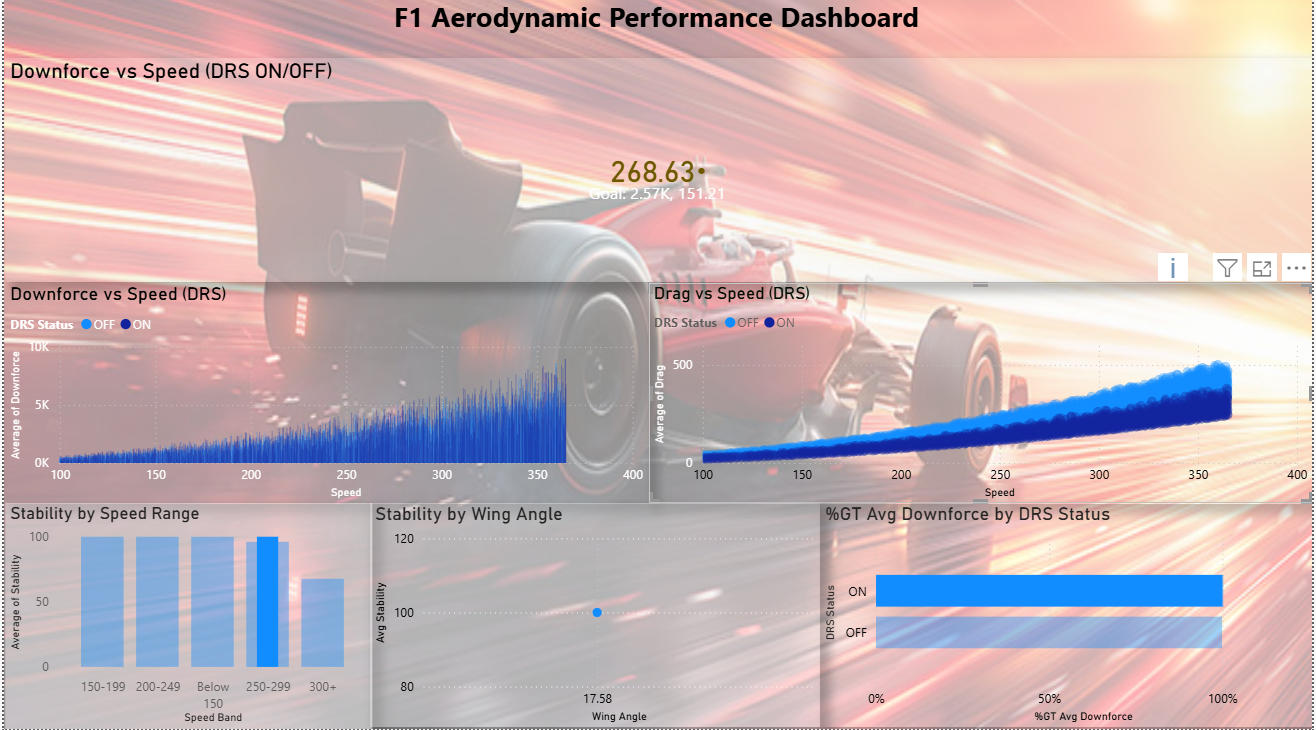

Layout of this report page (visuals, bound fields, positions):
{"tool":"powerbi","page":{"name":"Page 1","canvas":[1280,720],"ordinal":0},"visuals":[{"type":"kpi","title":"Downforce vs Speed (DRS ON/OFF)","fields":{"TrendLine":["actaruslab_f1_telemetry_2026.DRS Status"],"Indicator":["actaruslab_f1_telemetry_2026.Avg Speed"],"Goal":["actaruslab_f1_telemetry_2026.Avg Downforce","actaruslab_f1_telemetry_2026.Avg Drag"]},"box":[1.2,63.9,1278.8,219.6],"z":0},{"type":"clusteredColumnChart","title":"Downforce vs Speed (DRS)","fields":{"Category":["actaruslab_f1_telemetry_2026.Speed"],"Series":["actaruslab_f1_telemetry_2026.DRS Status"],"Y":["Avg(actaruslab_f1_telemetry_2026.Downforce)"]},"box":[1.2,283.5,629.8,216],"z":1000},{"type":"scatterChart","title":"Drag vs Speed (DRS)","fields":{"Series":["actaruslab_f1_telemetry_2026.DRS Status"],"X":["actaruslab_f1_telemetry_2026.Speed"],"Y":["Avg(actaruslab_f1_telemetry_2026.Drag)"]},"box":[631,283.5,649.1,216],"z":2000},{"type":"barChart","fields":{"Category":["actaruslab_f1_telemetry_2026.DRS Status"],"Y":["actaruslab_f1_telemetry_2026.Avg Downforce"]},"box":[798.7,499.5,481.4,219.6],"z":3000},{"type":"clusteredColumnChart","title":"Stability by Speed Range","fields":{"Y":["Avg(actaruslab_f1_telemetry_2026.Stability)"],"Category":["actaruslab_f1_telemetry_2026.Speed Band"]},"box":[1.2,498.9,359.5,221.3],"z":4000},{"type":"lineChart","title":"Stability by Wing Angle","fields":{"Category":["actaruslab_f1_telemetry_2026.Wing Angle"],"Y":["actaruslab_f1_telemetry_2026.Avg Stability"]},"box":[358.3,500.1,440.2,220.1],"z":5000},{"type":"textbox","box":[100.1,0,1076.1,63.9],"z":6000}]}

Visuals, with their boxes in screenshot pixels (x1, y1, x2, y2), scaled from the page's 1280x720 canvas onto the 1316x730 screenshot:
"Downforce vs Speed (DRS ON/OFF)" kpi: (left=1, top=65, right=1315, bottom=287)
"Downforce vs Speed (DRS)" clusteredColumnChart: (left=1, top=287, right=649, bottom=506)
"Drag vs Speed (DRS)" scatterChart: (left=649, top=287, right=1315, bottom=506)
barChart - actaruslab_f1_telemetry_2026.DRS Status x actaruslab_f1_telemetry_2026.Avg Downforce: (left=821, top=506, right=1315, bottom=729)
"Stability by Speed Range" clusteredColumnChart: (left=1, top=506, right=371, bottom=729)
"Stability by Wing Angle" lineChart: (left=368, top=507, right=821, bottom=729)
textbox: (left=103, top=0, right=1209, bottom=65)
